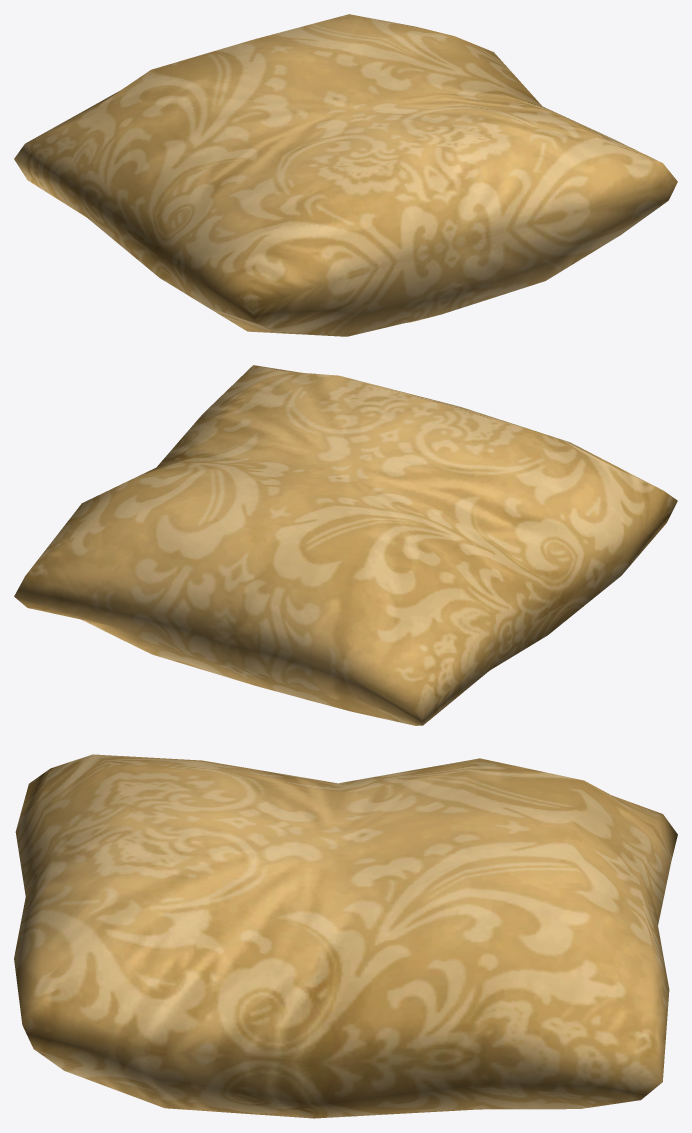
File: dub_lounge_pillow01_lod0.glb
3 views of the same model, one above another, from view 1: azimuth 30°, elevation 25°; view 2: azimuth 150°, elevation 25°; view 3: azimuth 270°, elevation 25° (orthographic). The views are drawn at different scales.
Parts seen in each view (by area): view 1: surf0; view 2: surf0; view 3: surf0.
Boxes of the visible parts, <box> form: surf0: <box>14,14,677,336</box>; surf0: <box>14,365,677,725</box>; surf0: <box>14,754,677,1118</box>.
Size of the model in its own units: 26.54 by 11.08 by 27.08.
